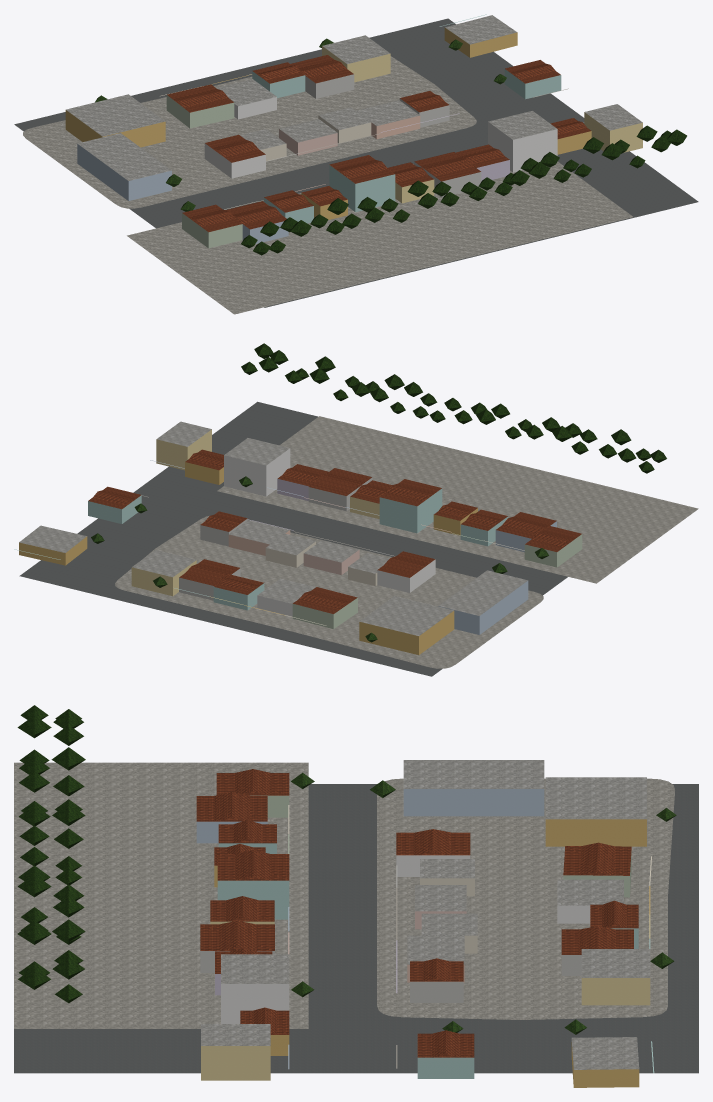
File: cidade_S04_00_lod.gltf
3 views of the same model, one above another, from view 1: azimuth 30°, elevation 25°; view 2: azimuth 150°, elevation 25°; view 3: azimuth 270°, elevation 25° (orthographic). The views are drawn at different scales.
Parts seen in each view (by area): view 1: S04_00_Chao_LOD2, S04_00_Edificios_LOD1, S04_00_Silhueta_LOD2, S04_00_Vegetacao_LOD2; view 2: S04_00_Chao_LOD2, S04_00_Edificios_LOD1, S04_00_Silhueta_LOD2, S04_00_Vegetacao_LOD2; view 3: S04_00_Chao_LOD2, S04_00_Edificios_LOD1, S04_00_Silhueta_LOD2, S04_00_Vegetacao_LOD2.
Part boxes in pixels (x1,y1,x2,y2): S04_00_Chao_LOD2: (14,18,698,314); S04_00_Edificios_LOD1: (65,14,642,248); S04_00_Silhueta_LOD2: (166,55,591,247); S04_00_Vegetacao_LOD2: (95,38,686,255); S04_00_Chao_LOD2: (19,401,698,676); S04_00_Edificios_LOD1: (14,421,582,654); S04_00_Silhueta_LOD2: (88,449,582,627); S04_00_Vegetacao_LOD2: (91,343,666,642); S04_00_Chao_LOD2: (14,762,698,1073); S04_00_Edificios_LOD1: (196,760,654,1087); S04_00_Silhueta_LOD2: (196,773,638,1078); S04_00_Vegetacao_LOD2: (17,705,676,1034).
Bounding box in the file's own units: 112 × 15.99 × 100.
18 materials, 18 textured.
